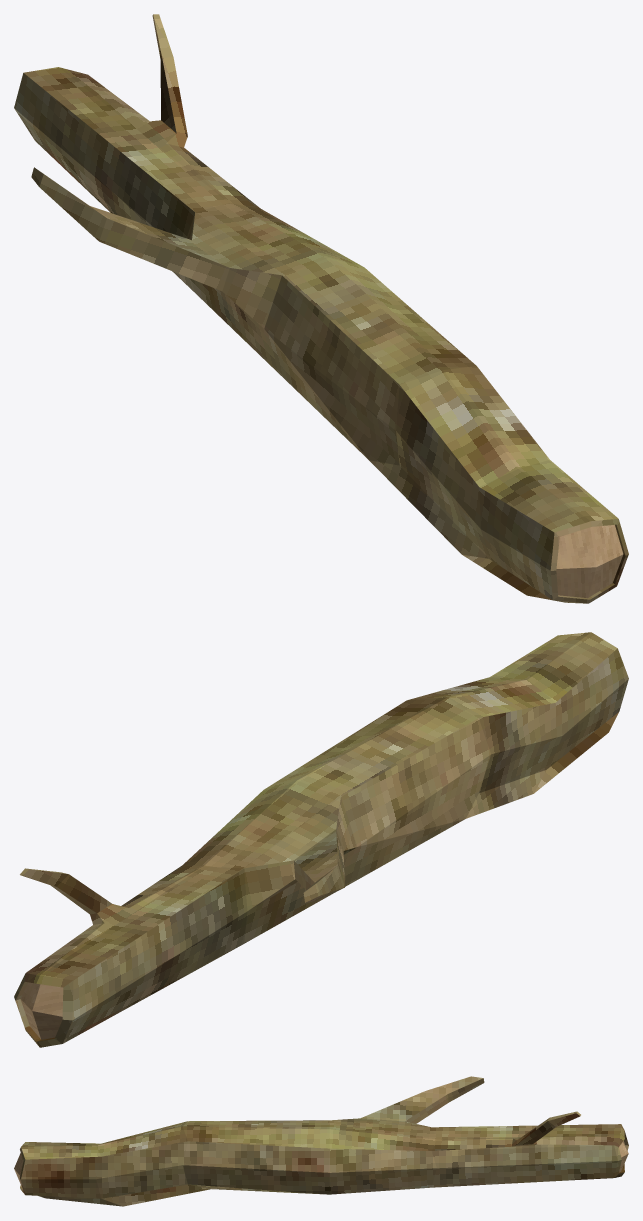
File: Stick.glb
The picture shows the model from 3 angles, top to bottom: view 1: azimuth 30°, elevation 25°; view 2: azimuth 150°, elevation 25°; view 3: azimuth 270°, elevation 25°; orthographic projection. The views are drawn at different scales.
Parts seen in each view (by area): view 1: Cube; view 2: Cube; view 3: Cube.
Part boxes in pixels (box(x1,y1,x2,y2)): Cube: box(14, 14, 628, 603); Cube: box(14, 632, 628, 1047); Cube: box(14, 1076, 628, 1206).
Bounding box in the file's own units: 0.4156 × 0.3827 × 1.88.
Materials: 2 (2 with a texture image).
